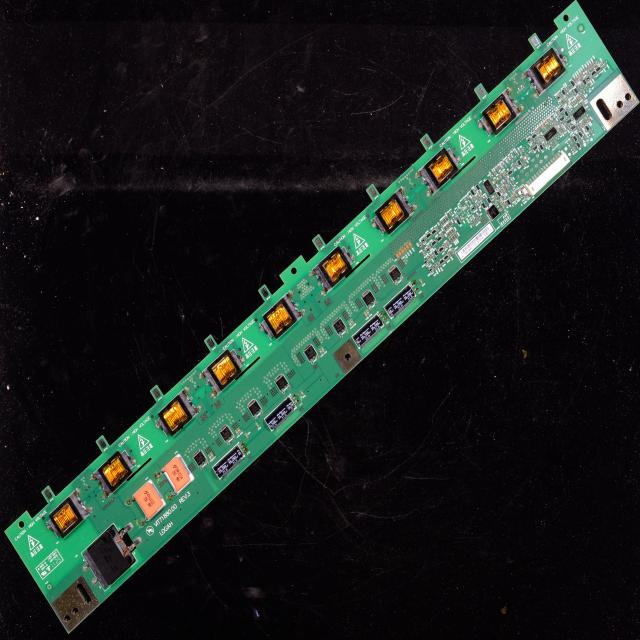Capacitor Jumper: (158, 448, 201, 497), (128, 478, 168, 519), (418, 278, 427, 286), (365, 308, 372, 318), (298, 391, 308, 398), (254, 422, 262, 430), (236, 426, 242, 436), (317, 349, 325, 356), (243, 433, 251, 440), (347, 320, 353, 328), (210, 451, 215, 460), (362, 311, 368, 318), (350, 317, 355, 325), (234, 430, 240, 436), (207, 455, 213, 461), (321, 347, 327, 352), (587, 116, 593, 121), (543, 121, 549, 126), (501, 205, 506, 210), (581, 71, 586, 76), (492, 171, 497, 176), (503, 180, 508, 185), (561, 99, 567, 103), (539, 126, 545, 130), (514, 193, 520, 197), (510, 166, 514, 171), (498, 199, 502, 204), (584, 70, 588, 74), (576, 97, 580, 101), (570, 103, 574, 107), (524, 163, 528, 167), (514, 163, 518, 167), (501, 173, 505, 177), (490, 174, 494, 178), (498, 174, 502, 178), (513, 195, 517, 199), (493, 197, 497, 201), (494, 179, 499, 182), (501, 183, 506, 186), (479, 193, 484, 196), (574, 100, 577, 104), (584, 120, 587, 124), (495, 168, 499, 171), (497, 177, 501, 180), (493, 180, 497, 183), (476, 195, 480, 198), (565, 88, 568, 91)
IC: (486, 202, 501, 220), (570, 106, 588, 120), (542, 126, 560, 140), (483, 178, 495, 194)
Resistor Jumper: (477, 215, 485, 220), (568, 138, 574, 144), (528, 148, 534, 154), (429, 253, 436, 258), (453, 214, 458, 220), (475, 218, 481, 223), (417, 243, 423, 248), (442, 244, 447, 250), (452, 247, 457, 253), (426, 256, 431, 262), (554, 140, 560, 145), (520, 147, 526, 152), (524, 153, 530, 158), (508, 155, 514, 160), (520, 157, 526, 162), (500, 190, 506, 195), (470, 198, 476, 203), (420, 252, 427, 256), (444, 218, 449, 223), (470, 222, 475, 227), (447, 223, 452, 228), (442, 227, 447, 232), (453, 235, 458, 240), (582, 96, 587, 101), (585, 118, 590, 123), (580, 122, 585, 127), (590, 130, 595, 135), (472, 220, 478, 224), (439, 234, 445, 238), (454, 234, 460, 238), (422, 236, 428, 240), (450, 238, 456, 242), (445, 241, 451, 245), (449, 250, 455, 254), (447, 252, 451, 258), (434, 264, 440, 268), (578, 84, 584, 88), (556, 111, 562, 115), (536, 128, 540, 134), (502, 160, 508, 164), (499, 162, 505, 166), (498, 185, 504, 189), (502, 188, 508, 192), (502, 202, 507, 206), (450, 210, 454, 215), (441, 220, 446, 224), (445, 225, 449, 230), (435, 227, 439, 232), (448, 239, 453, 243), (444, 244, 449, 248), (432, 266, 437, 270), (602, 62, 606, 67), (592, 62, 596, 67), (587, 66, 592, 70), (588, 75, 593, 79), (575, 75, 579, 80), (570, 92, 574, 97), (570, 116, 575, 120), (554, 120, 559, 124), (559, 122, 563, 127), (578, 124, 583, 128), (576, 125, 580, 130), (561, 128, 566, 132), (557, 131, 562, 135), (528, 141, 532, 146), (550, 144, 554, 149), (572, 147, 577, 151), (518, 150, 523, 154), (505, 158, 510, 162), (503, 171, 508, 175), (506, 185, 510, 190), (472, 196, 477, 200), (511, 196, 515, 201), (439, 222, 443, 226), (448, 232, 452, 236), (446, 234, 450, 238), (428, 246, 432, 250), (604, 60, 608, 64), (590, 64, 594, 68), (586, 68, 590, 72), (580, 73, 584, 77), (578, 75, 582, 79), (574, 78, 578, 82), (558, 94, 562, 98), (566, 106, 570, 110), (548, 119, 552, 123), (582, 120, 586, 124), (542, 124, 546, 128), (537, 127, 541, 131), (541, 136, 545, 140), (584, 136, 588, 140), (531, 141, 535, 145), (513, 150, 517, 154), (511, 152, 515, 156), (498, 164, 502, 168), (512, 166, 516, 170), (510, 198, 514, 202), (446, 217, 451, 220), (449, 222, 454, 225), (452, 229, 457, 232), (581, 102, 586, 105), (555, 127, 560, 130), (448, 213, 452, 216), (450, 231, 454, 234), (568, 94, 571, 98), (560, 102, 564, 105), (552, 122, 556, 125), (537, 140, 541, 143), (505, 177, 509, 180), (452, 217, 455, 220), (567, 87, 570, 90), (566, 95, 569, 98), (535, 132, 538, 135), (543, 143, 546, 146), (529, 138, 533, 140)
Transistor: (330, 312, 349, 338), (384, 264, 404, 284), (357, 290, 377, 310), (243, 398, 263, 418), (192, 446, 209, 468), (272, 373, 290, 393), (218, 425, 236, 444), (300, 344, 318, 362), (582, 84, 592, 92), (443, 254, 452, 262), (530, 145, 540, 152), (505, 170, 515, 177), (468, 189, 478, 196), (454, 218, 462, 226), (538, 144, 546, 152), (504, 200, 513, 207), (430, 239, 437, 248), (437, 259, 446, 266), (455, 208, 463, 215), (438, 246, 446, 253), (515, 159, 523, 166), (474, 183, 482, 190), (429, 229, 438, 235), (426, 231, 432, 239), (432, 250, 440, 256), (560, 89, 568, 95), (485, 198, 493, 204), (480, 202, 487, 208), (435, 236, 442, 242), (495, 192, 503, 197)
